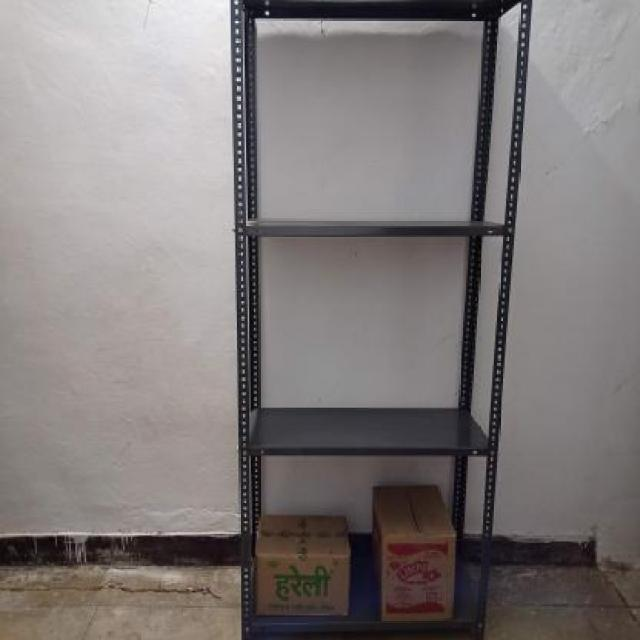box: (380, 531, 456, 625), (254, 553, 353, 619)
